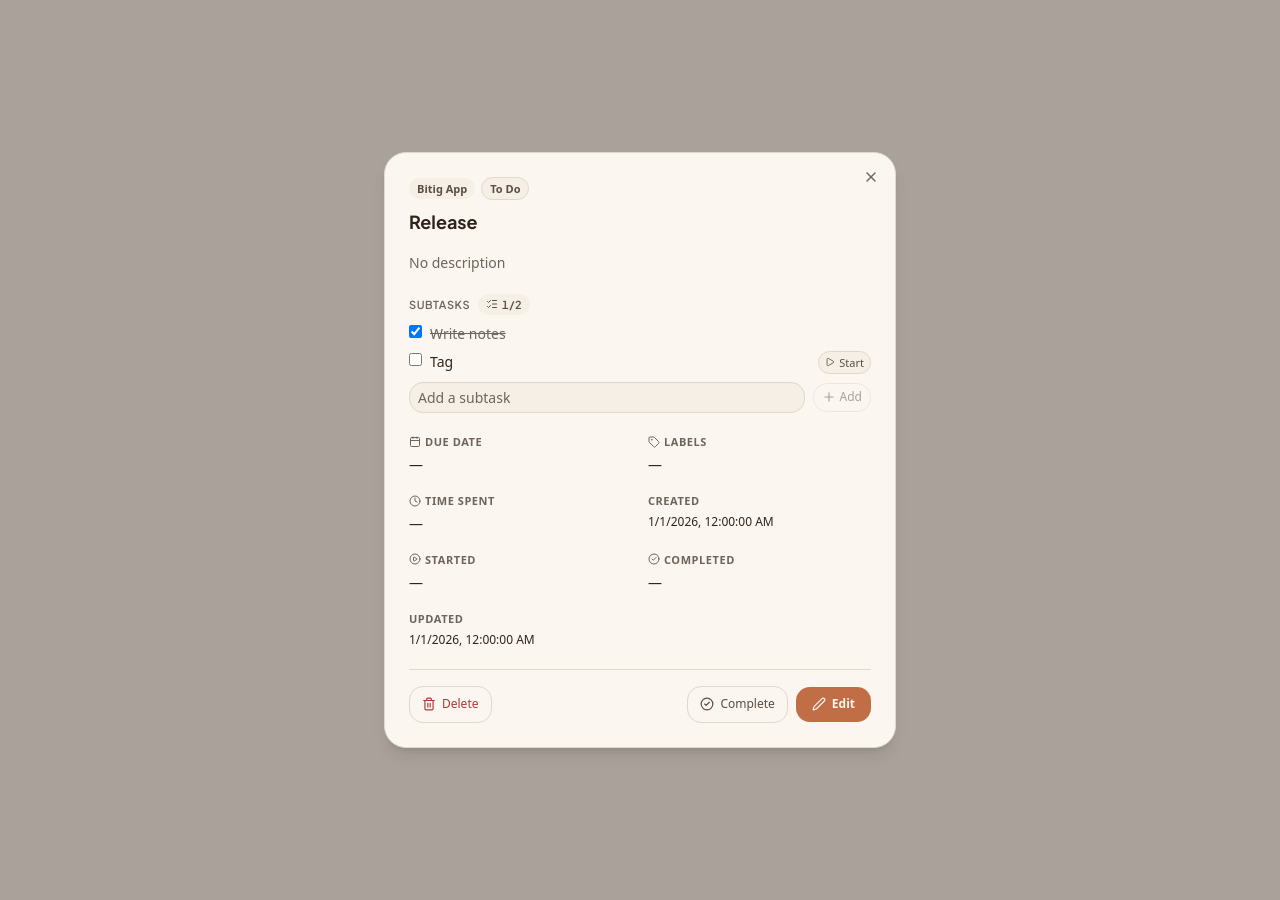
it: task checklist › toggles an item from the detail view and shows it before the save finishes
Click the checkbox labelled "Tag" at (416, 359), box 409,353 -> 422,366
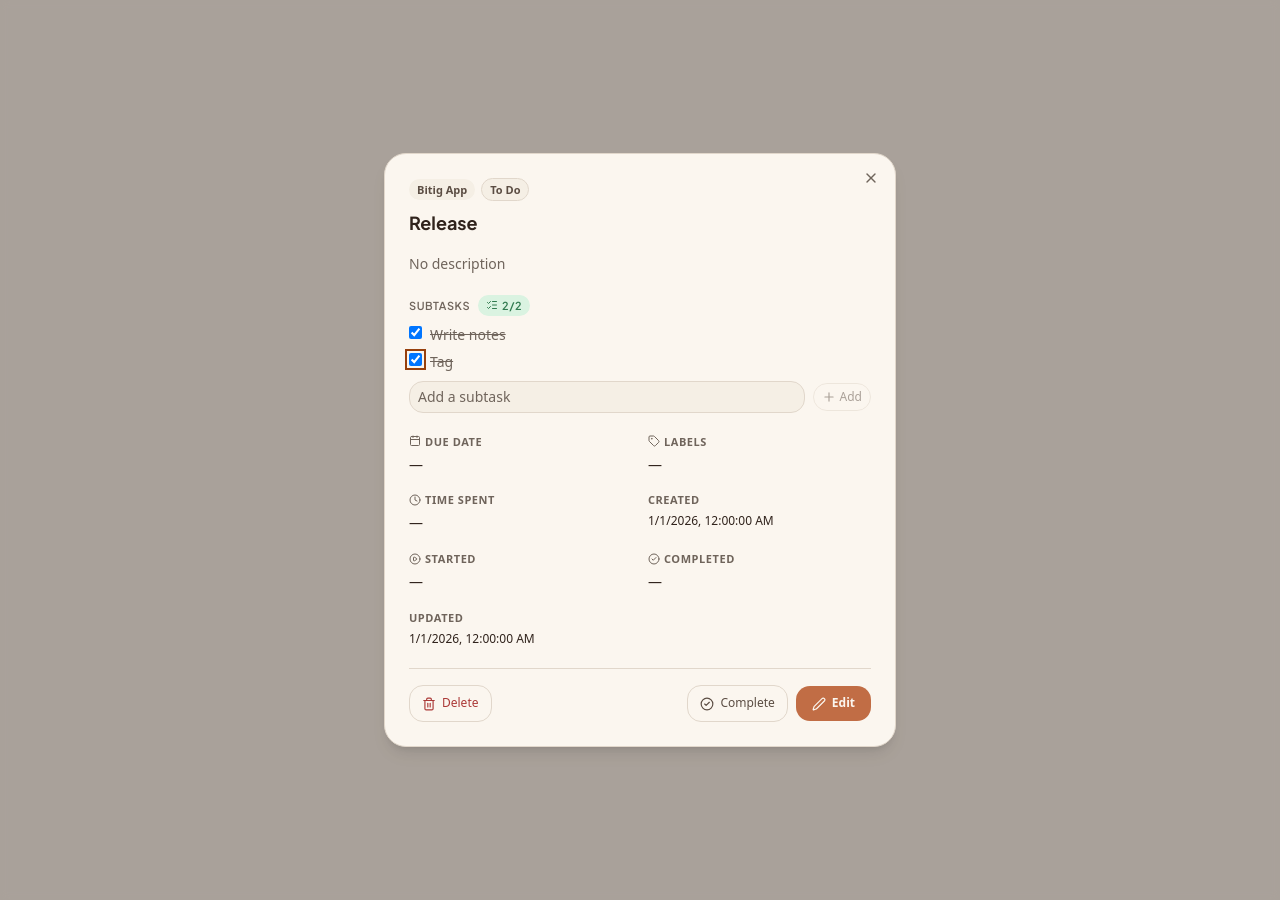
Now the checkbox labelled "Tag" is checked, box 409,353 -> 422,366
Now the element titled "2 of 2 subtasks done" is shown, box 478,294 -> 530,316
